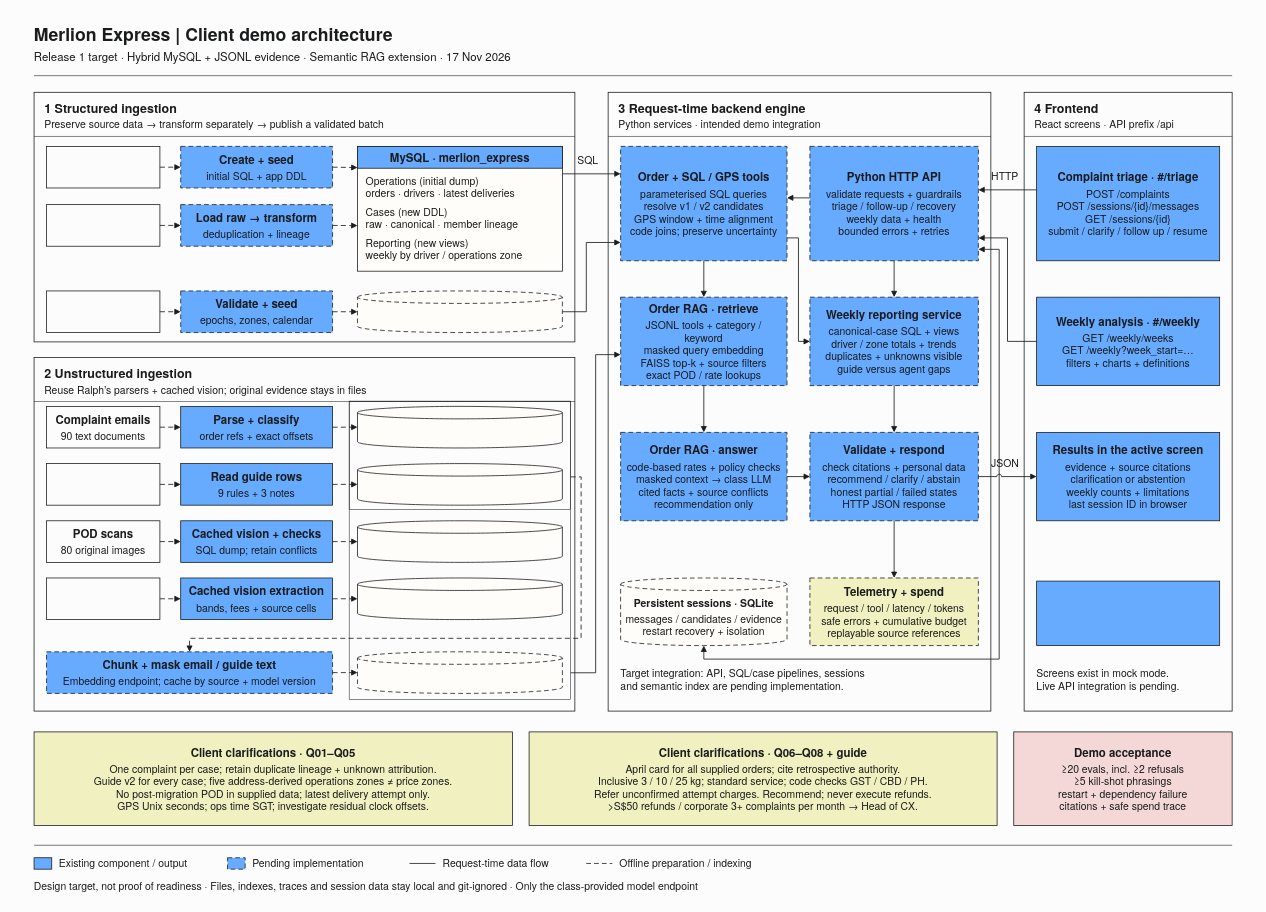
Image size: 1266x912. Some labels were removed from this diagram. Each missing label, with the centre of its shape:
"Case Log Excel complaint tab" belongs at (103,225).
"emails.jsonl parsed text + citations" belongs at (460,427).
"FAISS + chunk / citation metadata same embedding model at query time" belongs at (460,672).
"GPS + references files / calendar" belongs at (103,311).
"gps_pings_sample.jsonl validated time index + lookups" belongs at (460,311).
"How it works #/how-it-works · static flow, rules + data limitations No API calls" belongs at (1128,613).
"pod_records.jsonl fields + confidence + citations" belongs at (460,541).
"policy_chunks.jsonl rules + row citations" belongs at (460,484).
"Rate card April 2026 image" belongs at (103,598).
"rate_cards.jsonl prices + rules + citations" belongs at (460,598).
"Resolution Guide Excel policy tab" belongs at (103,484).
"SQL dump merlion_ops.sql" belongs at (103,167).
